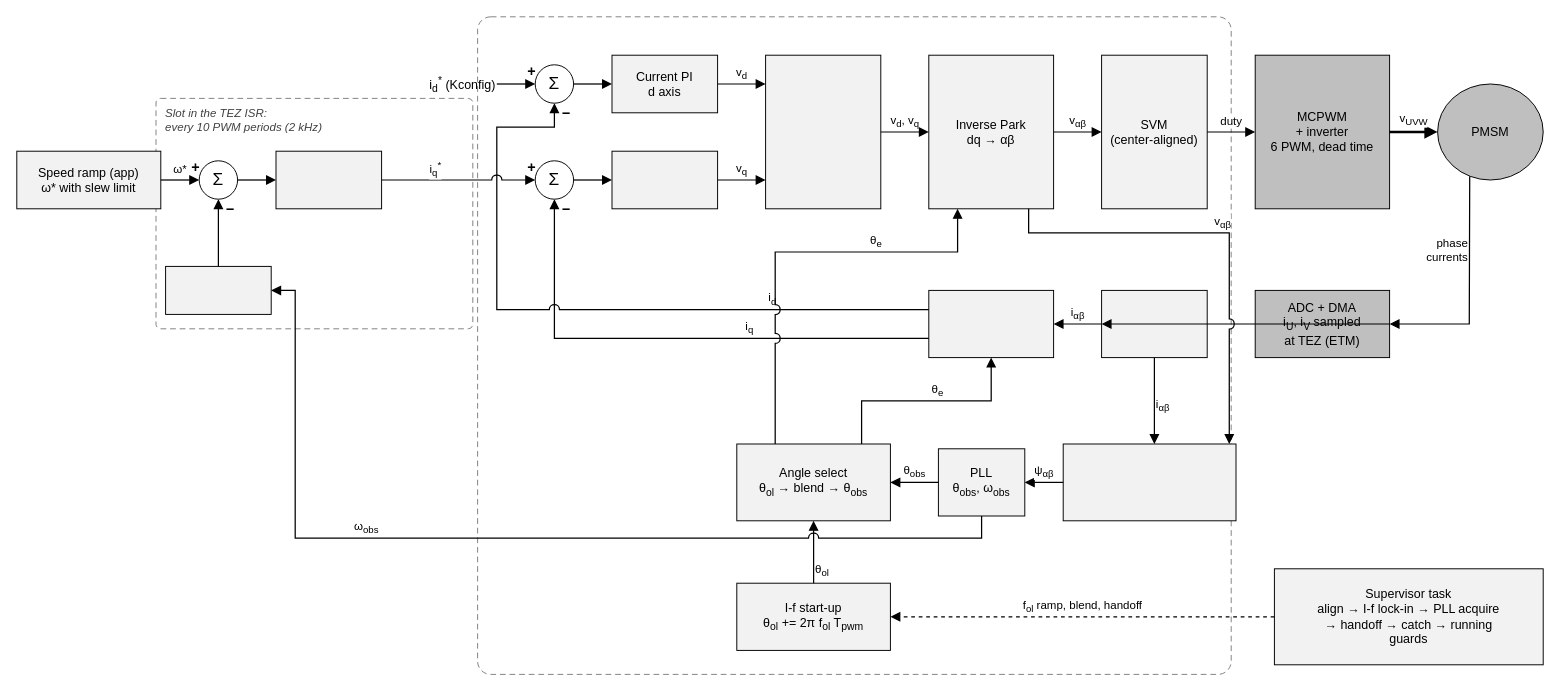
Some shapes in this 1560 by 691 pixel diagram are drawn without their labels. The shapes that lost their labels are listed below. From the top down, each one's box as (x1, y1, x2, y2) in pixels, then its label:
(765, 54, 881, 209): Voltage limit |v dq | ≤ V dc /√3
(275, 150, 382, 209): Speed PI
(611, 150, 718, 209): Current PI q axis
(165, 265, 271, 314): LPF ω ctrl
(928, 289, 1054, 358): Park αβ → dq
(1101, 289, 1207, 358): Clarke abc → αβ
(477, 16, 1231, 674): TEZ ISR: every PWM period (20 kHz)
(1062, 443, 1236, 521): Flux observer ψ s = ∫(v − R·i) dt − L·i
